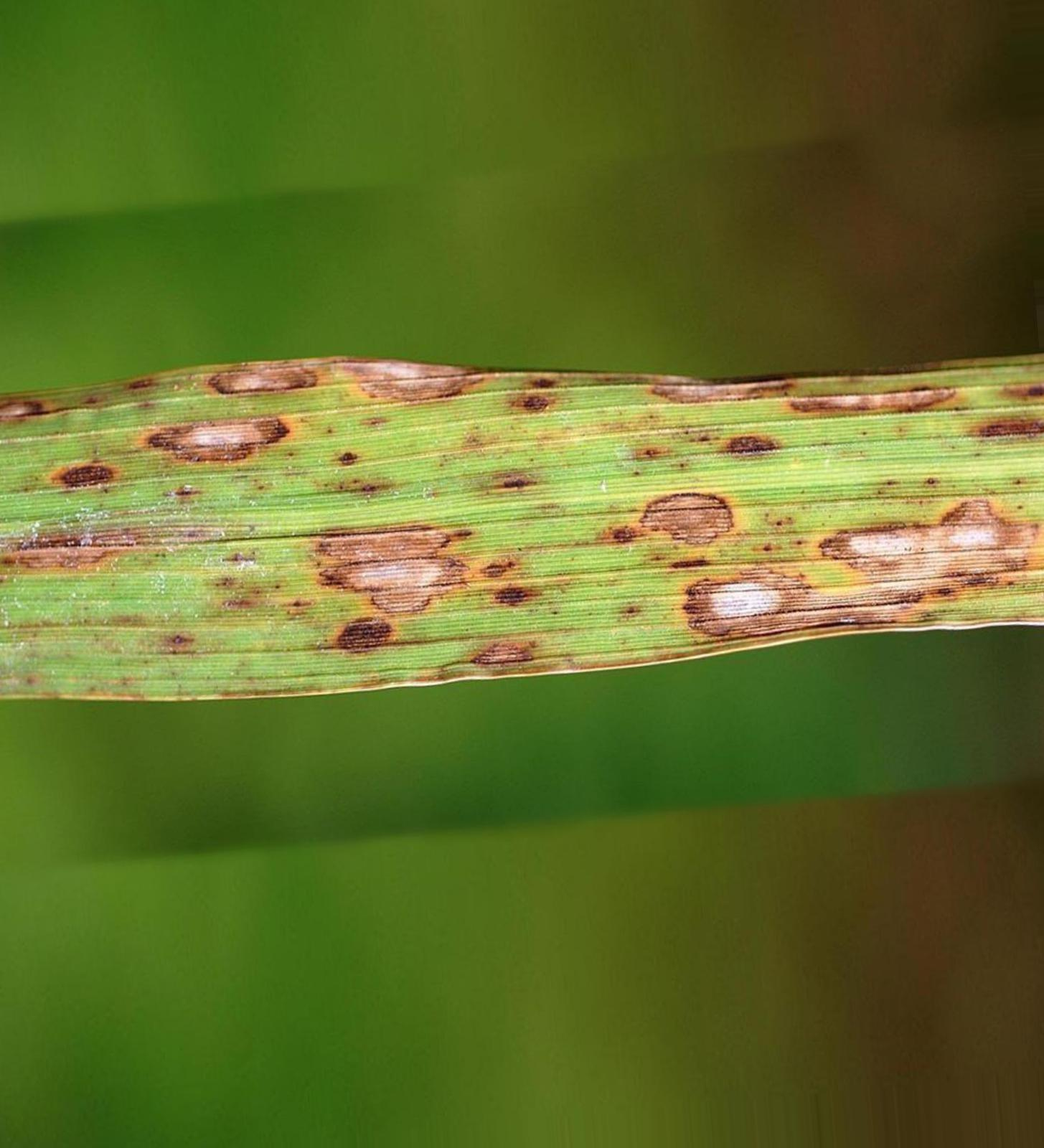LEAF BLAST: (683, 496, 1041, 638), (315, 525, 466, 613), (147, 417, 288, 461), (350, 361, 480, 401), (642, 492, 733, 545), (0, 535, 135, 569), (791, 387, 955, 412), (208, 363, 317, 394), (653, 379, 791, 403), (337, 618, 392, 652), (472, 640, 532, 665), (60, 463, 114, 487), (977, 419, 1043, 437), (728, 436, 778, 455), (0, 399, 45, 420), (484, 560, 513, 577), (446, 528, 474, 543)
